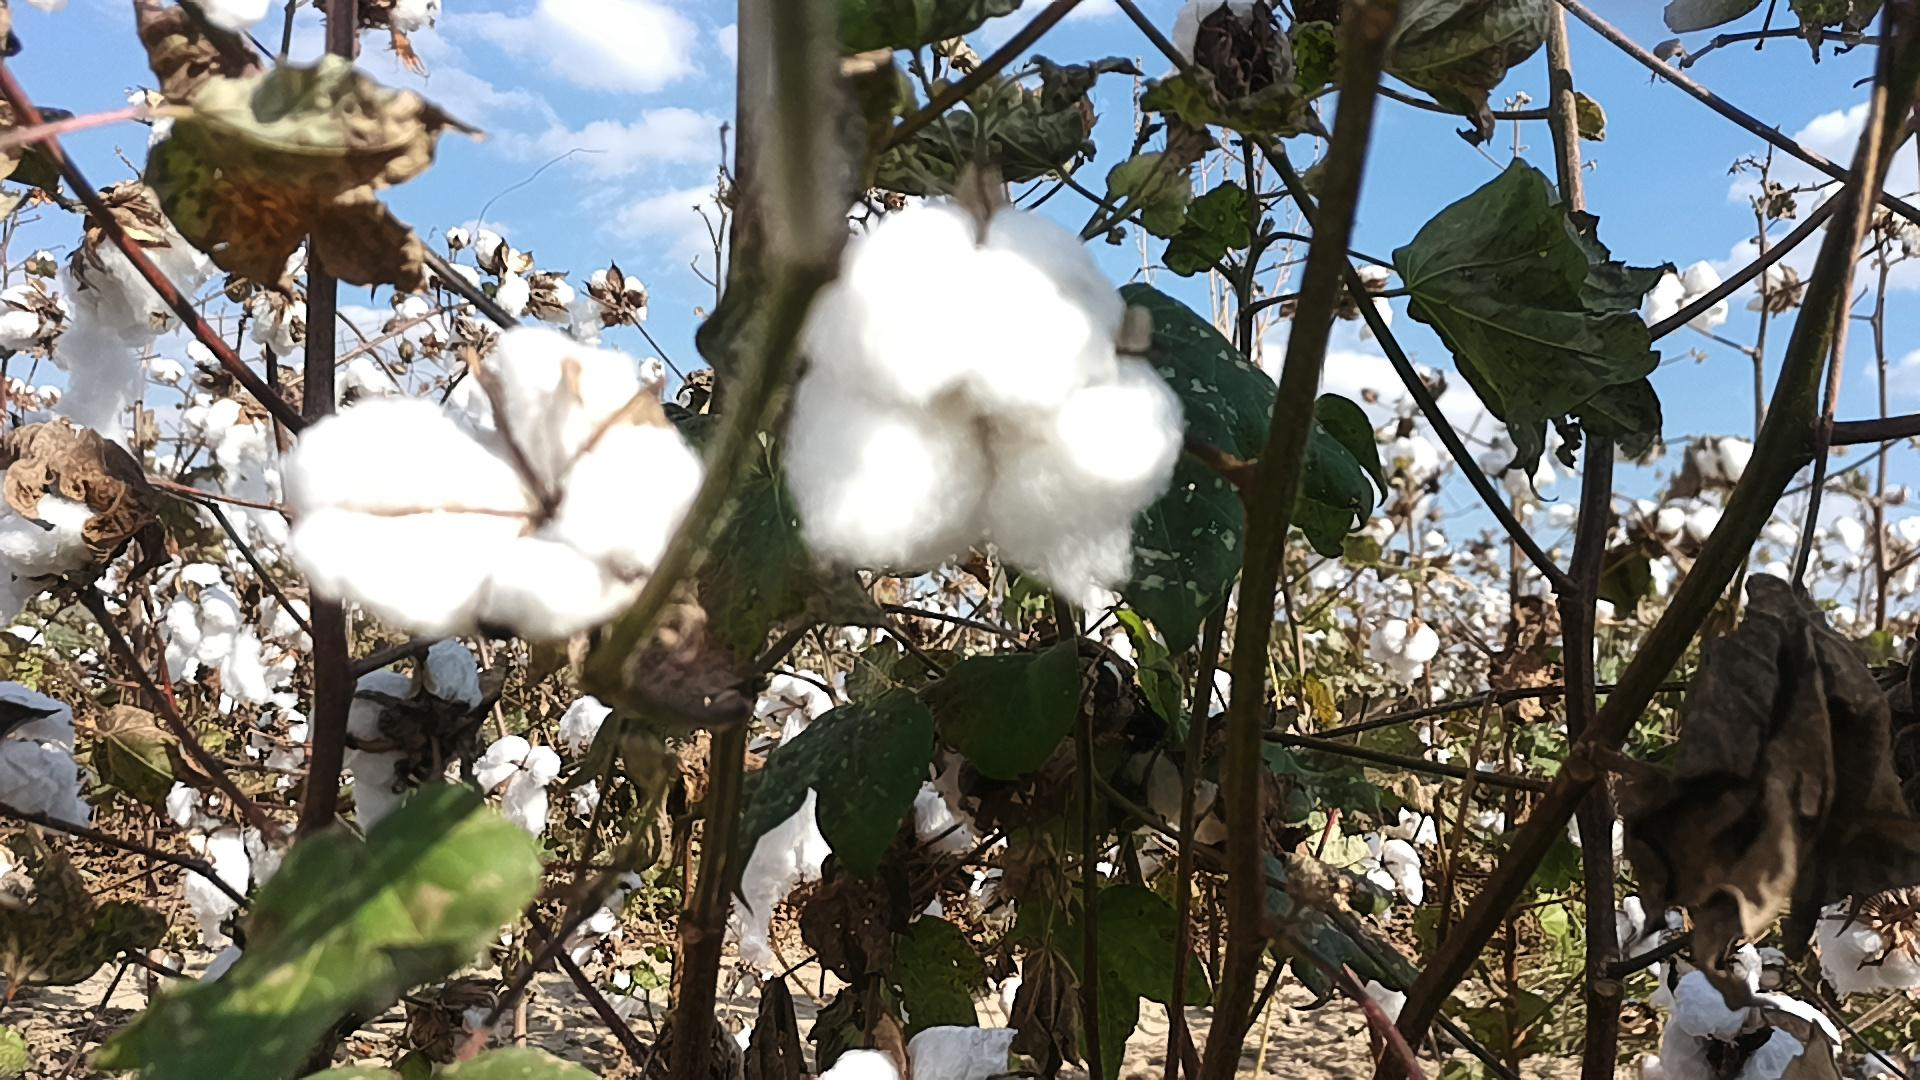cotton_ready: (783, 195, 1188, 601), (278, 326, 716, 633), (738, 713, 986, 957), (59, 181, 214, 419), (348, 632, 492, 836), (0, 451, 128, 625), (1654, 971, 1844, 1080), (167, 778, 298, 919), (0, 680, 95, 829), (808, 1021, 1019, 1080), (1813, 887, 1920, 998), (189, 398, 291, 501), (160, 559, 241, 680), (472, 737, 559, 836), (1353, 827, 1423, 903), (0, 285, 78, 353), (1373, 615, 1436, 683)
